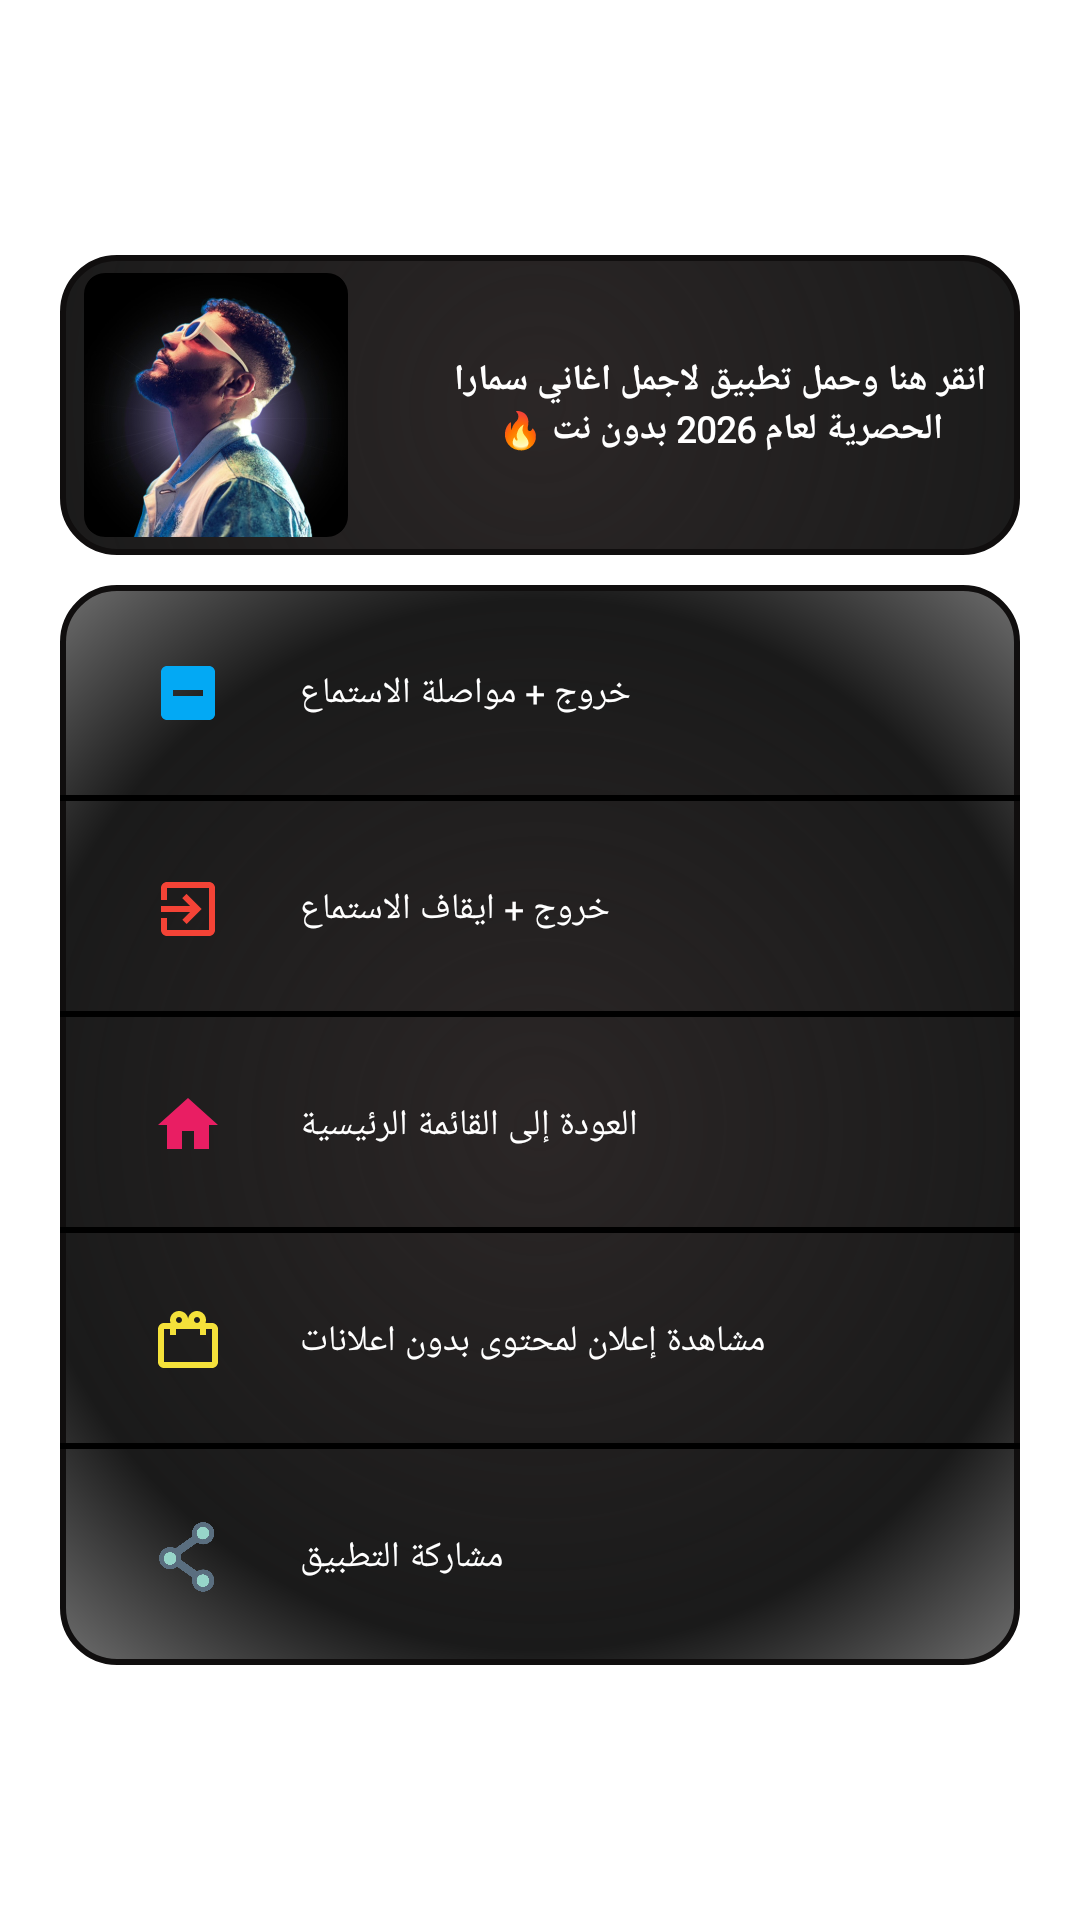

Icons on this 1080w x 1920h Android screen, each with the point to tap as (x=x, y=y):
exit: (x=188, y=909)
home: (x=188, y=1123)
